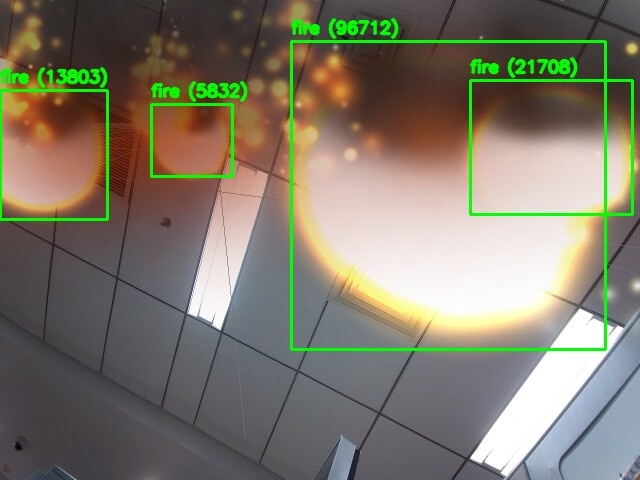fire: (291, 41, 605, 349), (470, 80, 632, 214), (0, 90, 107, 219), (151, 104, 232, 176)
